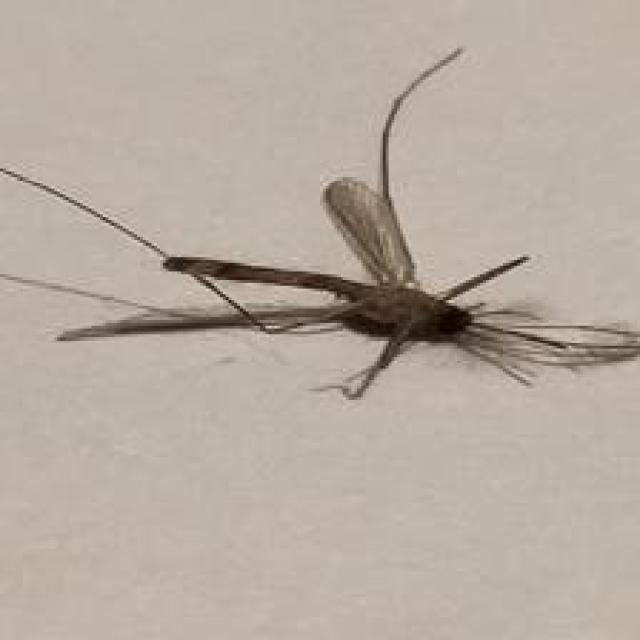Culex: (0, 44, 640, 402)
